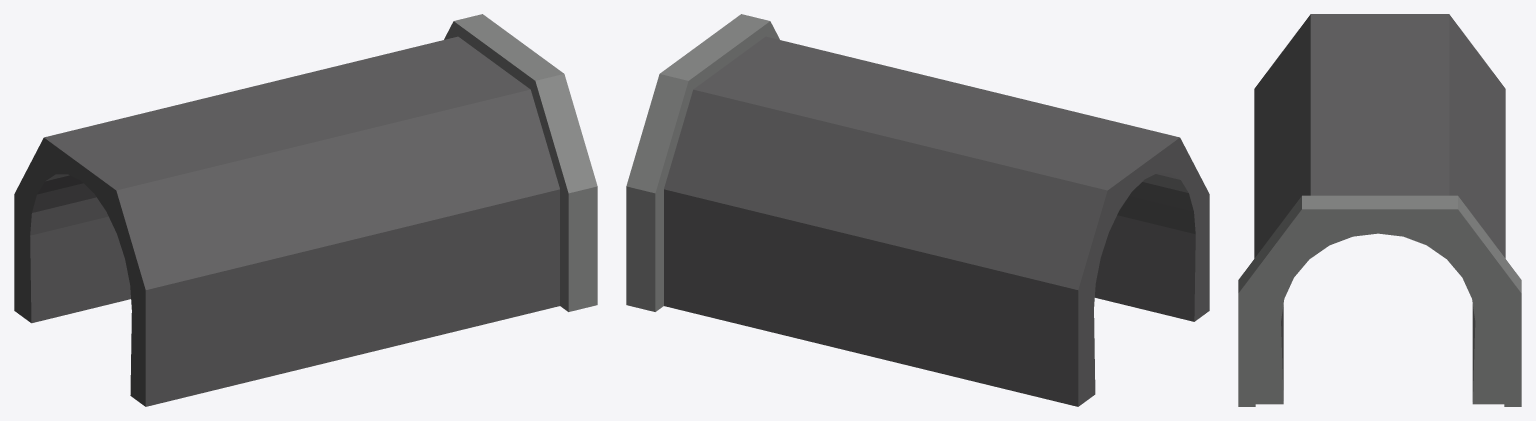
File: Tunnel.fbx
The picture shows the model from 3 angles, left to right: view 1: azimuth 30°, elevation 25°; view 2: azimuth 150°, elevation 25°; view 3: azimuth 270°, elevation 25°; orthographic projection. The views are drawn at different scales.
Parts seen in each view (by area): view 1: ModernTunnelEntrance-2; view 2: ModernTunnelEntrance-2; view 3: ModernTunnelEntrance-2.
Boxes of the visible parts, x1=… form: ModernTunnelEntrance-2: x1=14, y1=14, x2=597, y2=406; ModernTunnelEntrance-2: x1=626, y1=14, x2=1209, y2=406; ModernTunnelEntrance-2: x1=1238, y1=14, x2=1521, y2=406.
Bounding box in the file's own units: 2.73 × 1.22 × 1.58.
